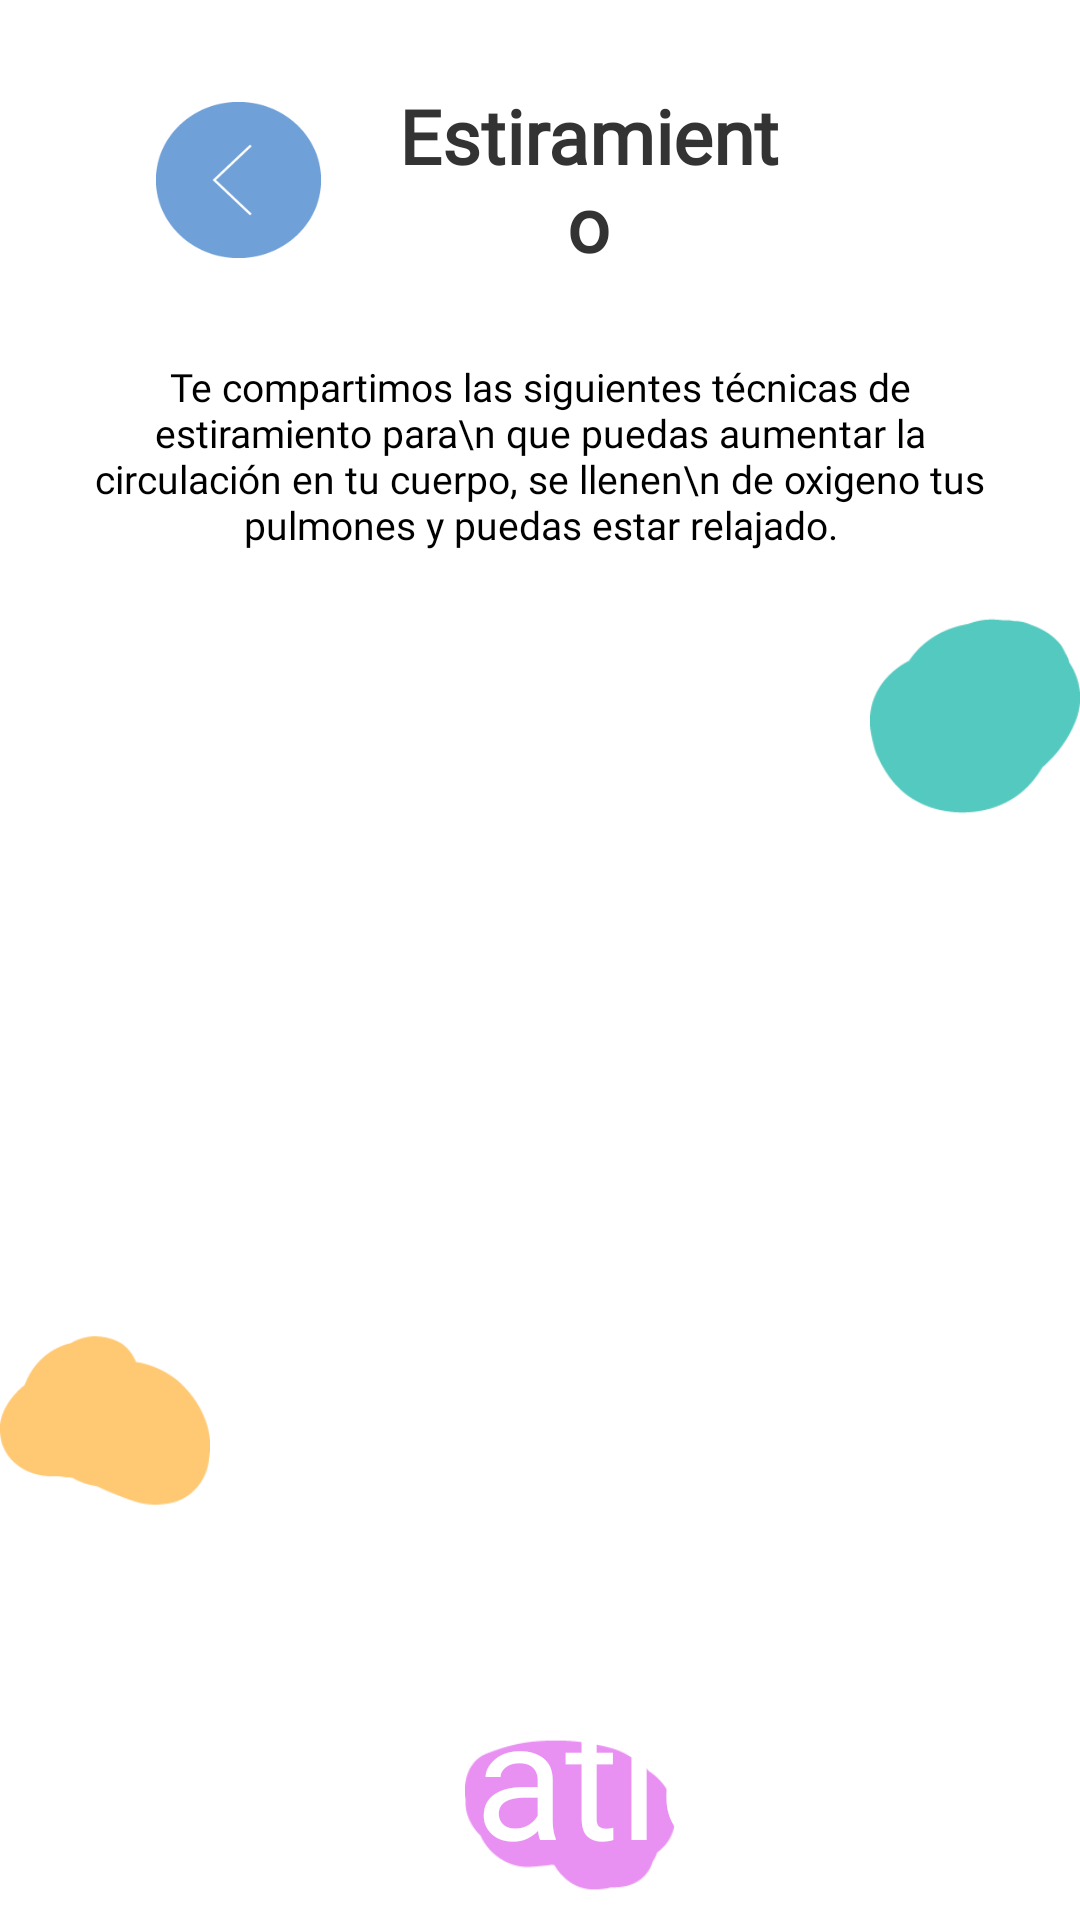

Icons on this 1080x1920 Android screen, each with its box as [x1, y1, x2, y2]:
regresar xxxdpi: [156, 102, 321, 258]
